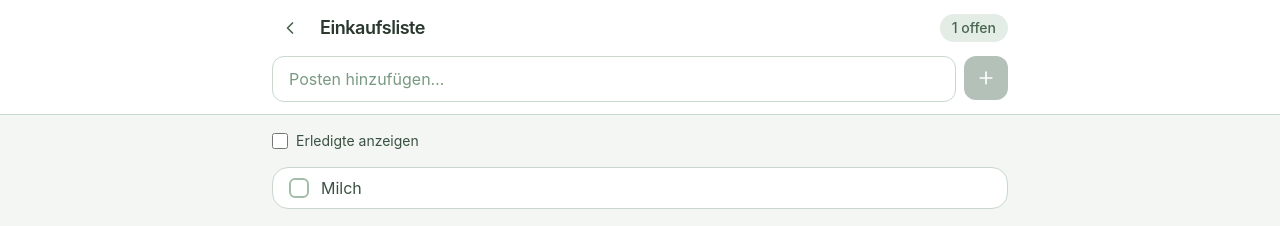
Test: Einkaufsliste-Detailseite › completing an item removes it from the open list and pill after the grace period
Click the button named "Milch abhaken".
click(299, 188)  # box [289,178,309,198]
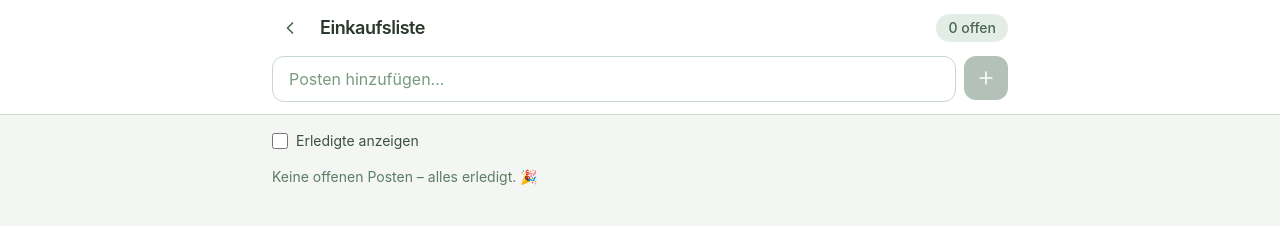
expect the text "0 offen" is shown: met, box [936,14,1008,42]
